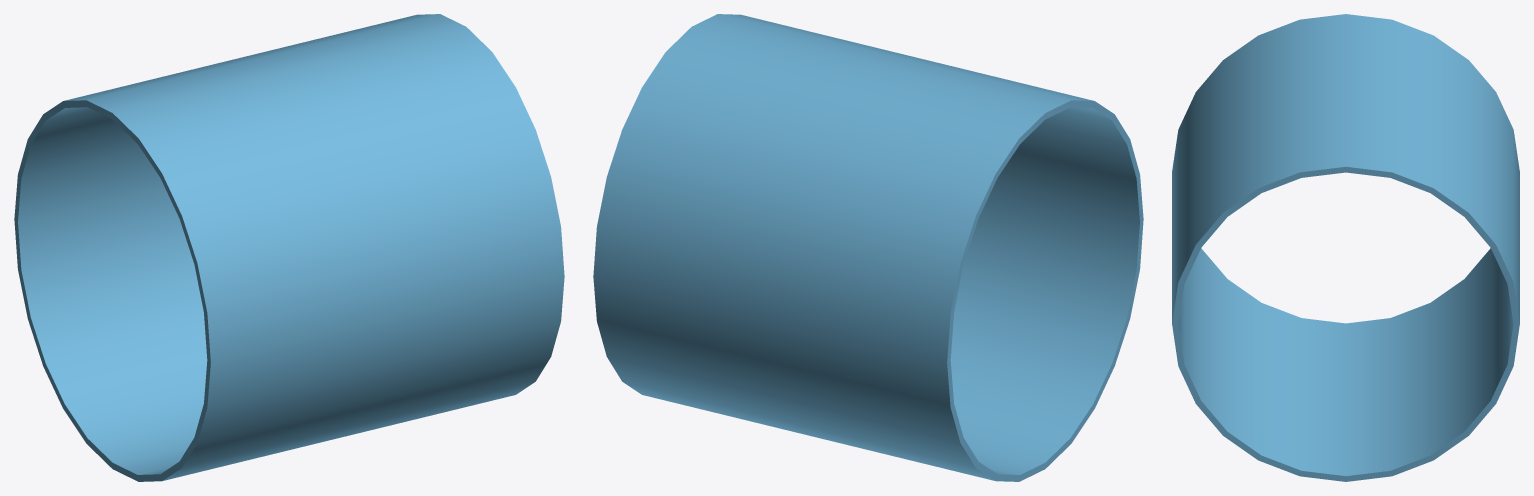
The model's file is tubo_S.fbx.
3 renders of one model, left to right at view 1: azimuth 30°, elevation 25°; view 2: azimuth 150°, elevation 25°; view 3: azimuth 270°, elevation 25°, orthographic. The views are drawn at different scales.
Visible parts, largest first — view 1: BezierCurve.001; view 2: BezierCurve.001; view 3: BezierCurve.001.
Part boxes in pixels (bbox=[...]): BezierCurve.001: bbox=[14, 14, 564, 481]; BezierCurve.001: bbox=[593, 14, 1143, 481]; BezierCurve.001: bbox=[1172, 14, 1519, 481].
Size of the model in its own units: 2000 by 1924 by 1924.
1 material, 1 textured.
